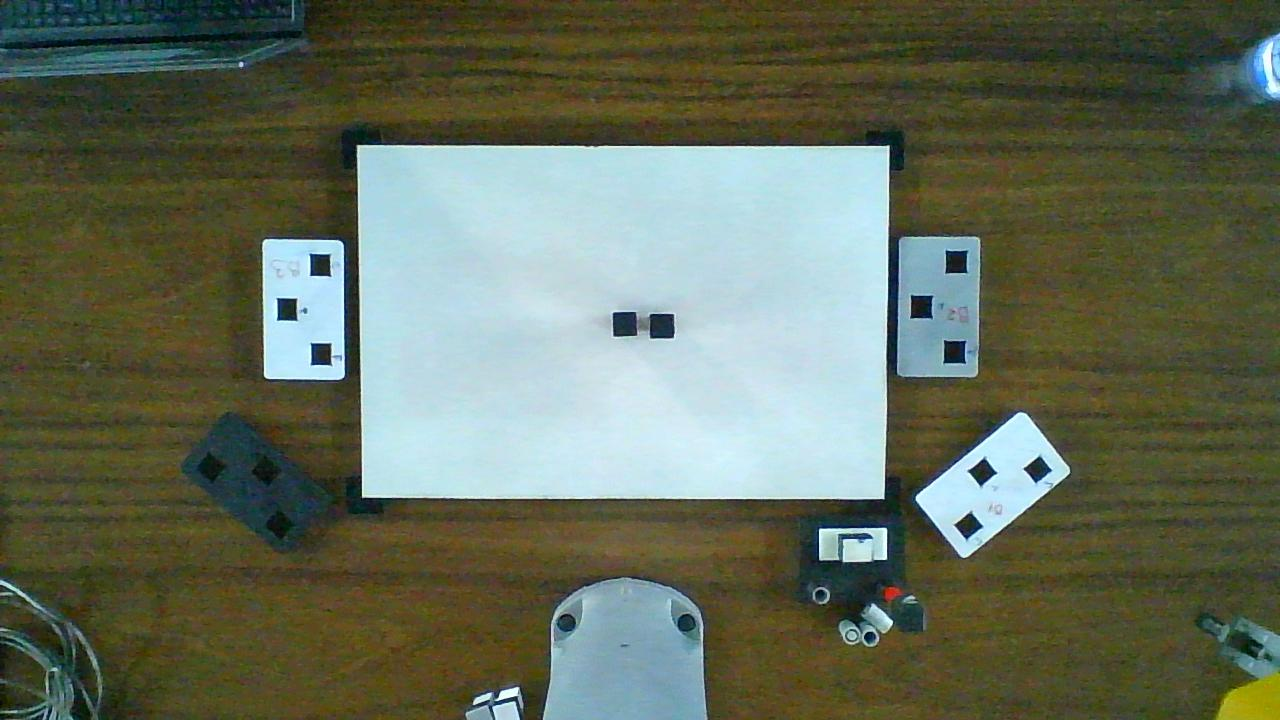peca_preta: (613, 313, 636, 336), (651, 315, 673, 338)
